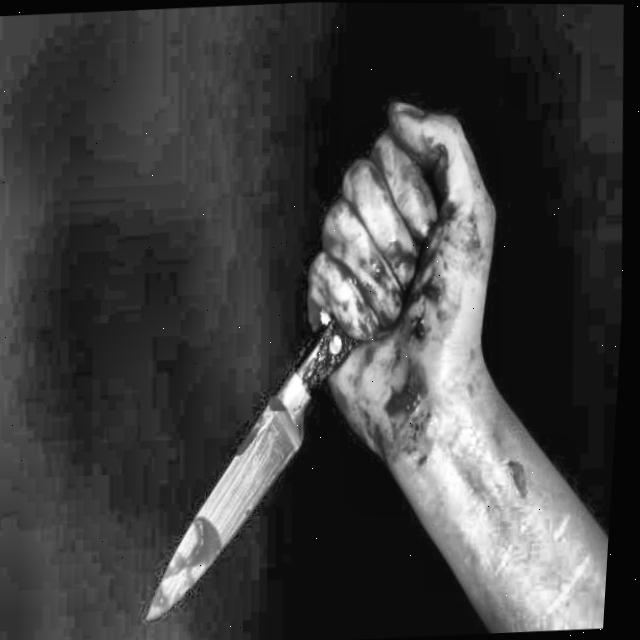pisau: (136, 293, 397, 634)
